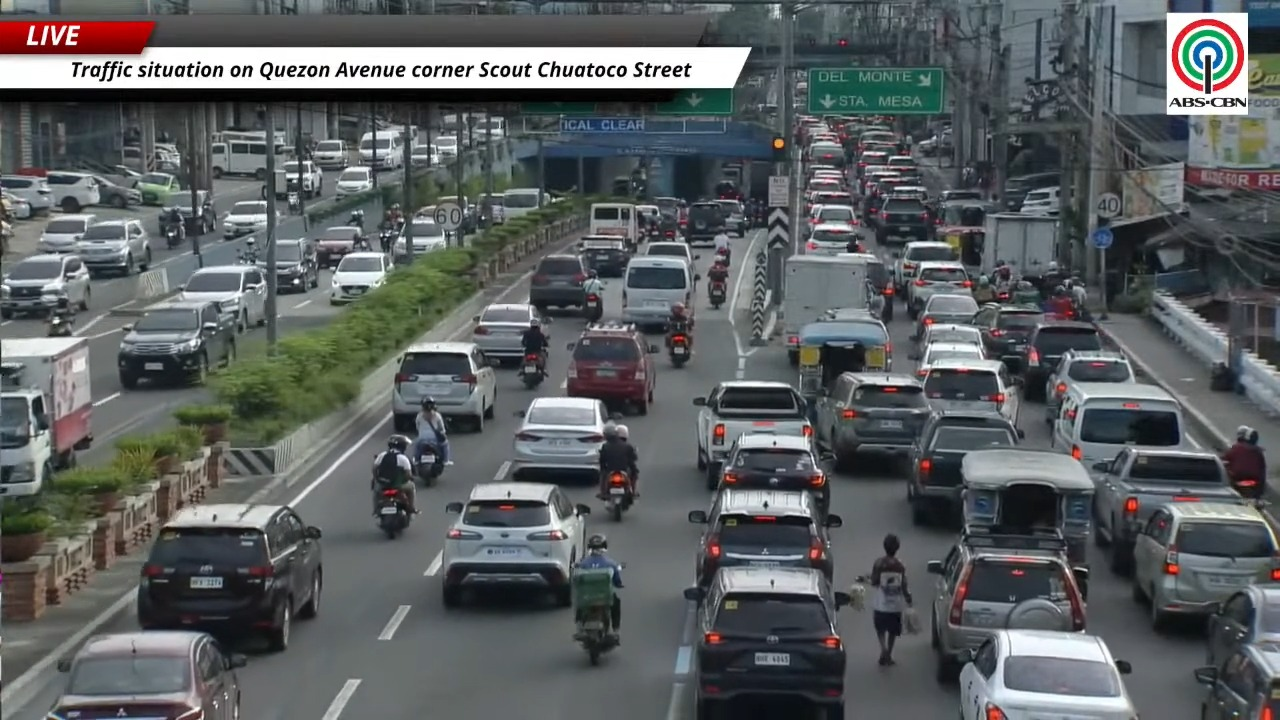bus: (210, 140, 266, 179)
car: (137, 504, 322, 651), (684, 567, 849, 719), (926, 528, 1086, 683), (1133, 501, 1279, 631), (440, 482, 589, 607), (47, 630, 246, 719), (959, 629, 1136, 719), (688, 485, 841, 587), (907, 411, 1022, 524), (814, 372, 930, 469), (117, 300, 235, 388), (393, 343, 496, 433), (714, 433, 829, 512), (566, 322, 657, 413), (511, 397, 608, 478), (1018, 320, 1102, 400), (921, 358, 1020, 425), (1044, 350, 1136, 422), (1194, 643, 1279, 719), (1206, 583, 1279, 666), (177, 265, 266, 332), (0, 254, 90, 318), (970, 303, 1043, 371), (73, 219, 151, 275), (473, 303, 541, 360), (906, 261, 972, 319), (529, 254, 586, 313), (329, 251, 392, 304), (914, 292, 978, 338), (158, 189, 217, 235), (876, 196, 932, 244), (392, 213, 446, 257), (274, 238, 318, 292), (45, 171, 101, 212), (577, 235, 630, 277), (0, 175, 53, 215), (314, 225, 364, 267), (918, 342, 986, 371), (223, 201, 275, 238), (275, 160, 322, 199), (684, 201, 726, 244), (805, 223, 859, 256), (918, 323, 982, 348), (437, 195, 478, 233), (135, 172, 181, 205), (643, 241, 699, 266), (809, 204, 859, 227), (311, 139, 349, 169), (335, 166, 373, 196), (716, 199, 746, 237), (807, 136, 845, 166), (806, 188, 854, 211), (862, 183, 885, 231), (0, 190, 33, 219), (479, 192, 506, 226), (856, 150, 887, 177), (890, 185, 928, 205), (411, 145, 440, 168), (433, 136, 458, 161), (939, 189, 982, 202), (886, 156, 917, 169)
motorcycle: (571, 568, 618, 665), (376, 485, 411, 538), (605, 471, 633, 521), (415, 445, 443, 486), (668, 331, 692, 368), (1229, 474, 1264, 499), (520, 353, 544, 389), (47, 313, 73, 336), (583, 293, 602, 322), (708, 279, 726, 308), (881, 285, 894, 322), (164, 223, 182, 248), (379, 229, 394, 253), (237, 248, 258, 264), (715, 247, 731, 268), (287, 191, 300, 214), (348, 210, 363, 229)
truck: (1086, 447, 1246, 574), (0, 337, 92, 496), (693, 380, 812, 489), (782, 253, 869, 365), (981, 213, 1058, 278), (276, 160, 322, 199)
